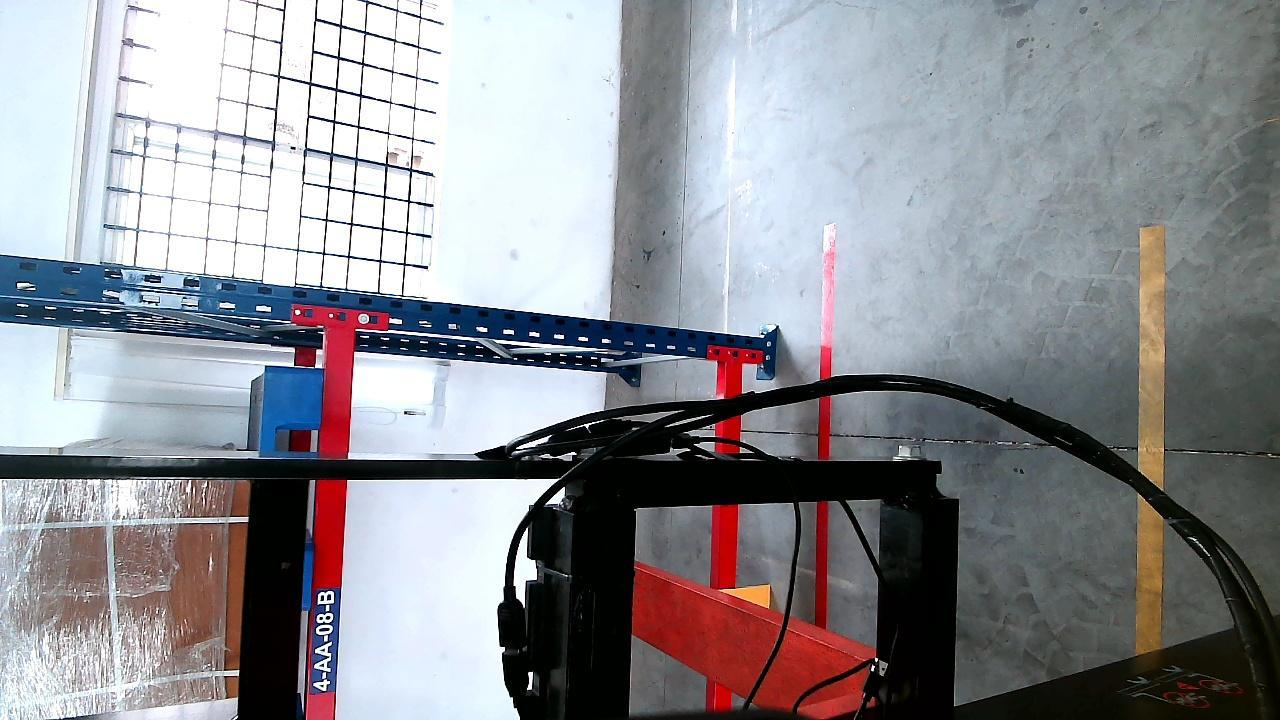red_line: (811, 223, 840, 626)
yellow_line: (1134, 213, 1168, 654)
